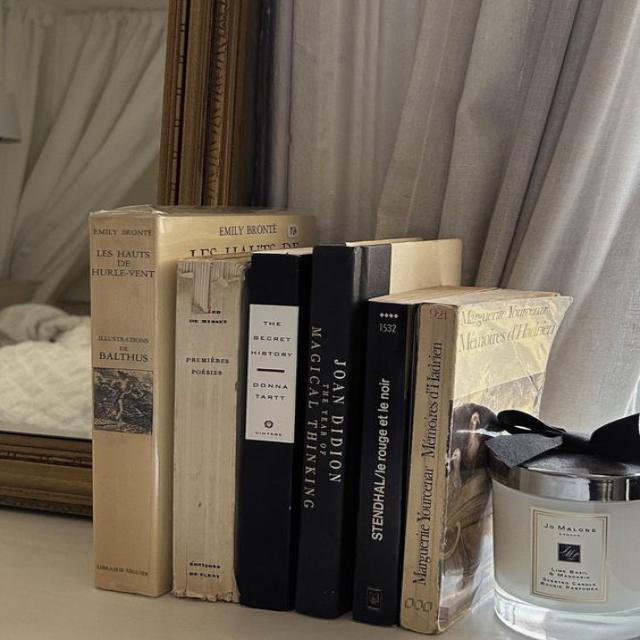book: (91, 206, 309, 596), (237, 254, 311, 610), (174, 253, 247, 601), (294, 245, 361, 617), (352, 301, 415, 625), (403, 307, 466, 631)
candle: (487, 432, 639, 639)
